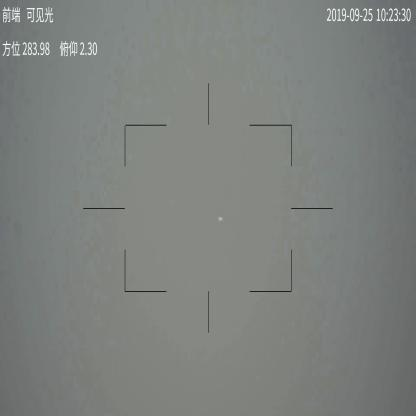uav: (218, 213, 223, 223)
